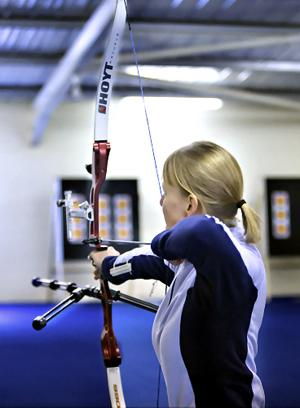person: (88, 140, 269, 408)
